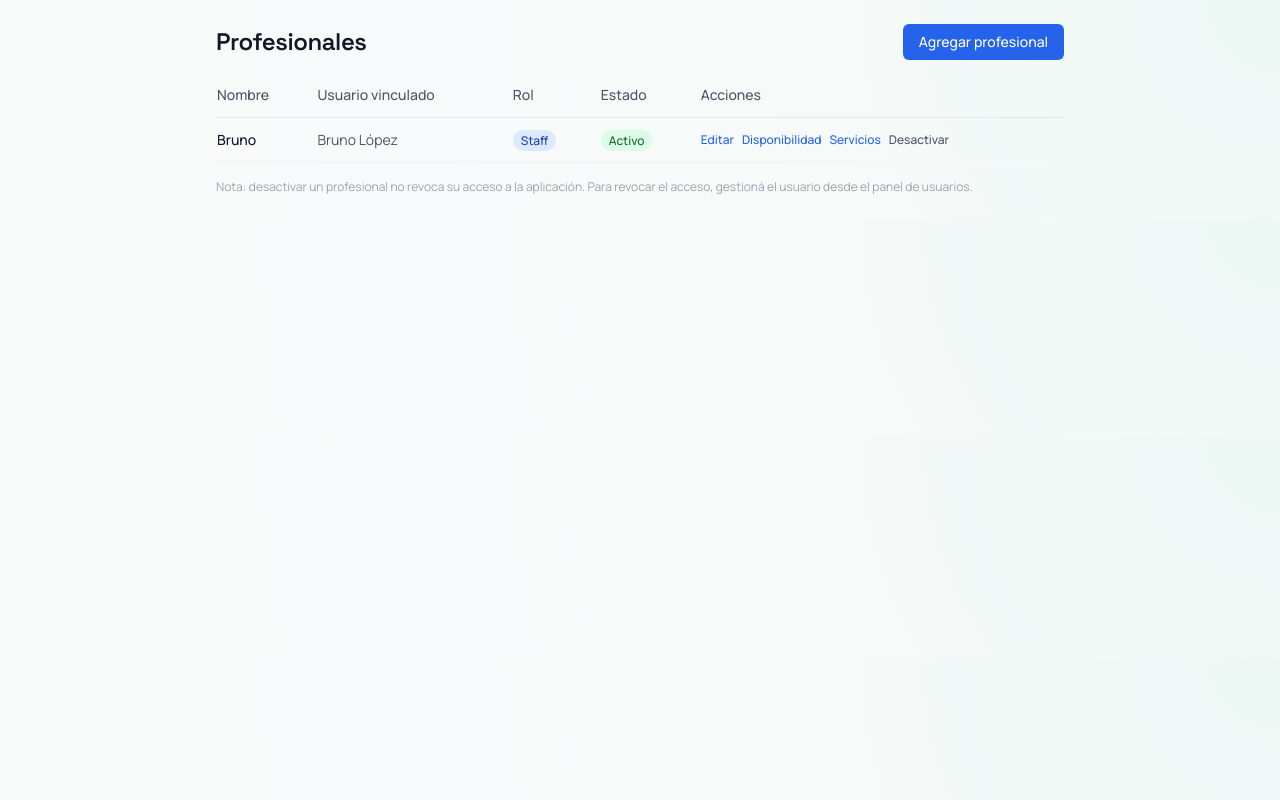
Test: AdminStaffPage › shows validation error on edit form for too-short display name
Expected: the text "Bruno" is shown, [216, 118, 316, 162]
Click the button "Editar" at (717, 140), box [701, 132, 734, 148]
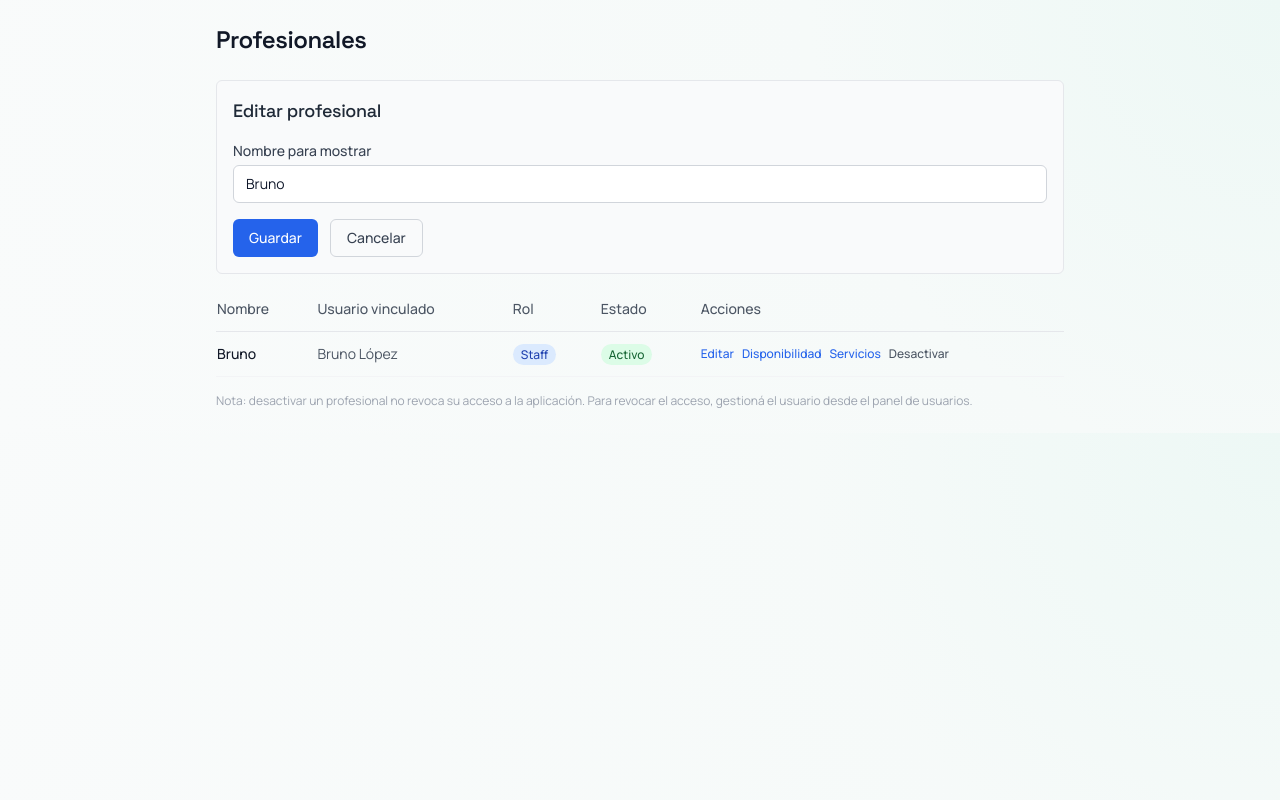
Expected: the field labelled "Nombre para mostrar" is shown
Replace the text in the field labelled "Nombre para mostrar" with "X" at (640, 184), box [233, 165, 1047, 203]
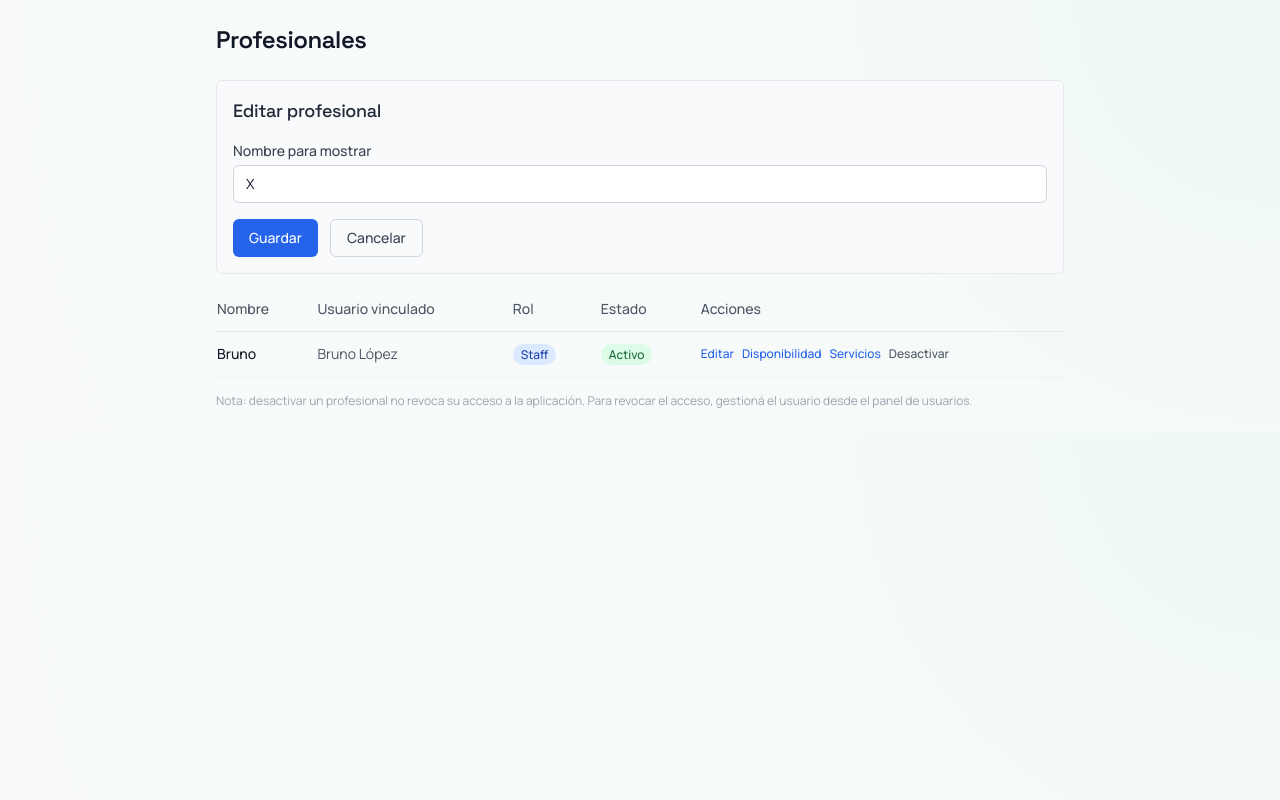
Click the button "Guardar" at (275, 238), box [233, 219, 318, 257]
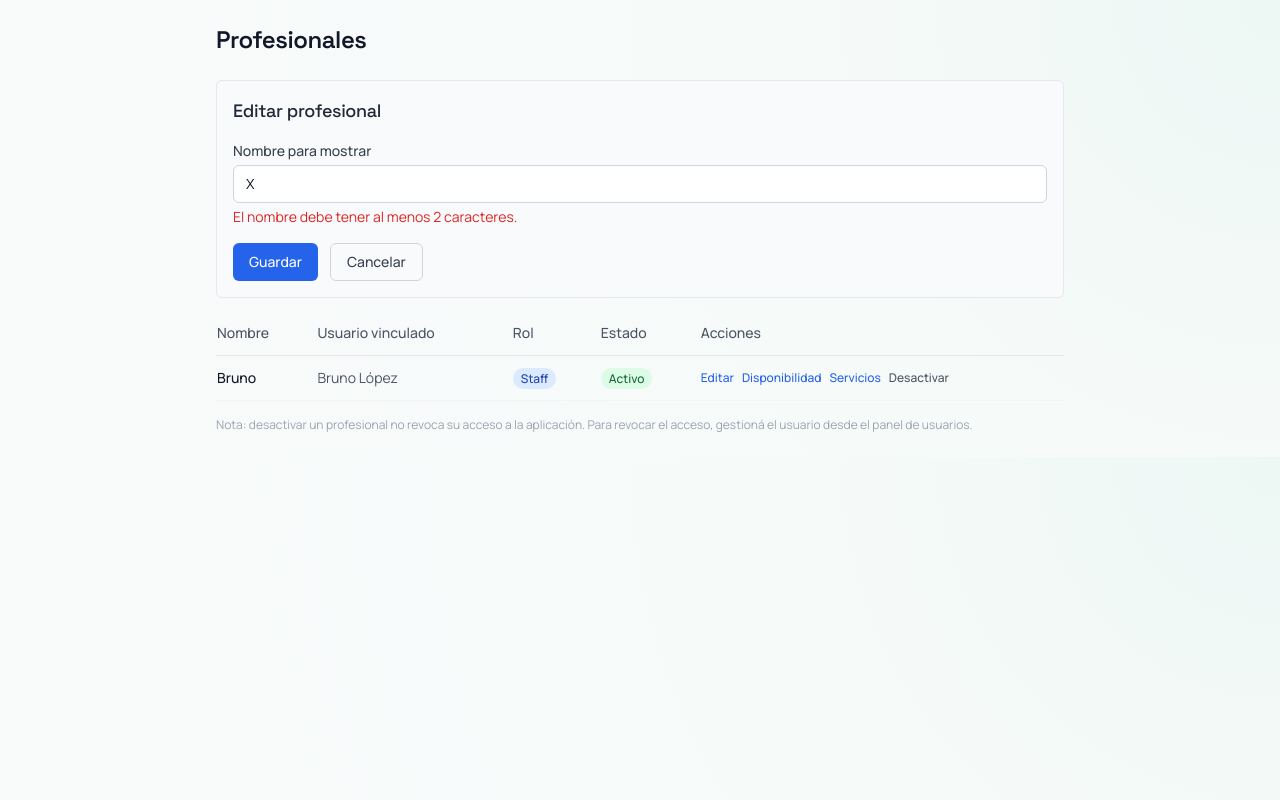
Expected: the text "El nombre debe tener al menos 2 caracteres." is shown, [233, 207, 517, 226]
